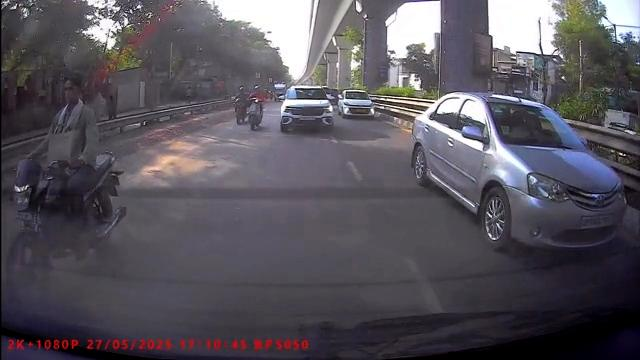motorcycle_without_helmet: (9, 74, 123, 310)
